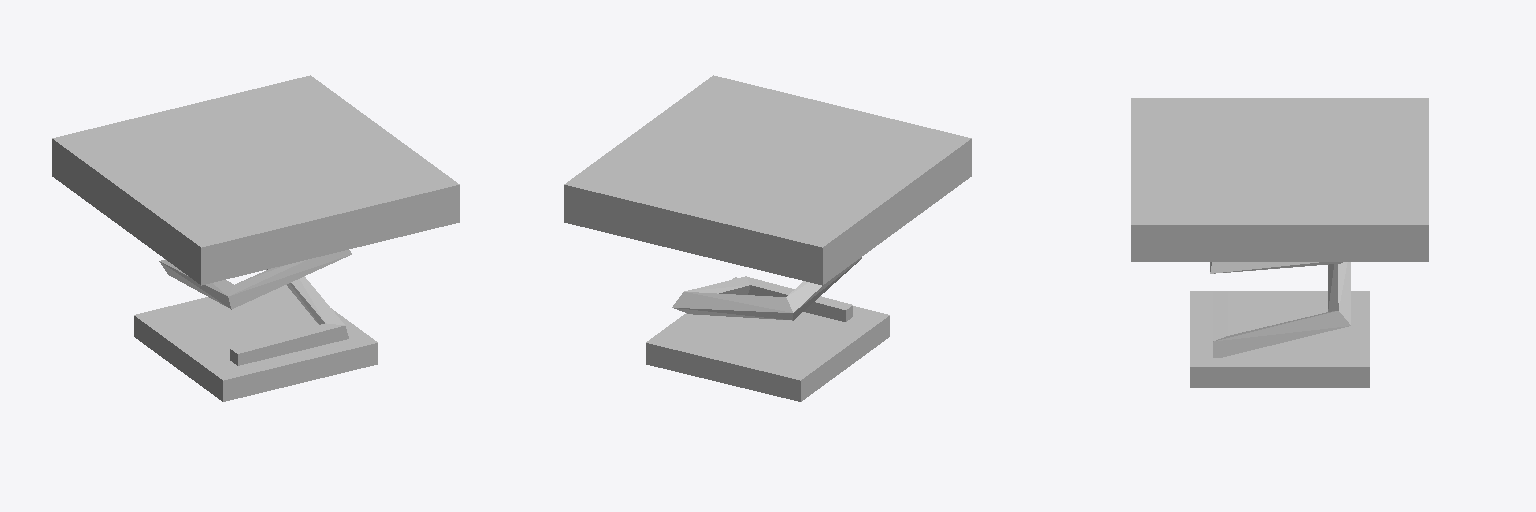
The model's file is bump_mac.obj.
3 views of the same model, side by side, from view 1: azimuth 30°, elevation 25°; view 2: azimuth 150°, elevation 25°; view 3: azimuth 270°, elevation 25° (orthographic).
Visible parts, largest first — view 1: default; view 2: default; view 3: default.
Part boxes in pixels (x1,y1,x2,y2): default: (52, 75, 459, 401); default: (564, 75, 971, 401); default: (1131, 98, 1428, 387).
Bounding box in the file's own units: 1 × 0.6983 × 1.